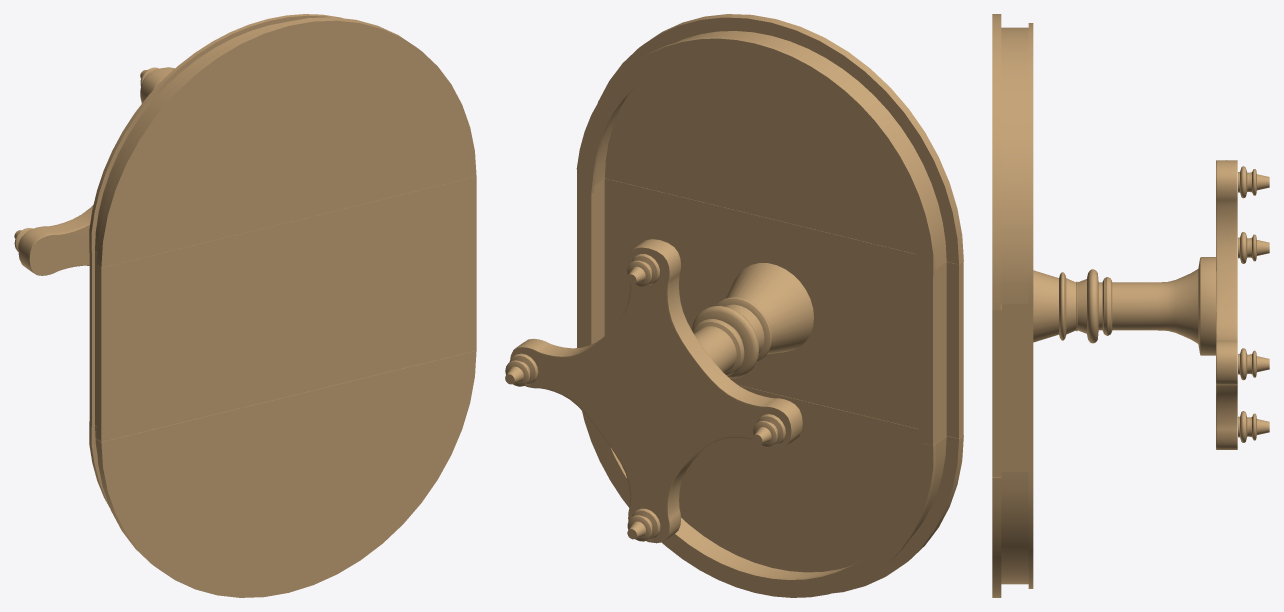
Rendered from Turned_Leg_Round_Table_Pine_V1.obj.
3 renders of one model, left to right at view 1: azimuth 30°, elevation 25°; view 2: azimuth 150°, elevation 25°; view 3: azimuth 270°, elevation 25°, orthographic. The views are drawn at different scales.
Visible parts, largest first — view 1: Box27, Cylinder124, Cylinder125, Tube08, Box30, Box29; view 2: Cylinder124, Box27, Cylinder125, Box30, Tube08, Tube07, Cylinder130, Box29, Box28, Cylinder129, Cylinder126, Cylinder127 (+1 smaller); view 3: Cylinder130, Tube08, Box30, Box28, Tube07, Cylinder124, Box27, Cylinder125, Cylinder126, Cylinder129, Cylinder127, Cylinder128.
Boxes of the visible parts, <box> form: Box27: <box>96,176,476,441</box>; Cylinder124: <box>96,17,476,267</box>; Cylinder125: <box>96,350,476,597</box>; Tube08: <box>89,14,342,254</box>; Box30: <box>18,67,174,275</box>; Box29: <box>89,247,97,429</box>; Cylinder124: <box>598,14,963,264</box>; Box27: <box>604,178,963,438</box>; Cylinder125: <box>679,385,963,593</box>; Box30: <box>510,239,802,543</box>; Tube08: <box>576,31,946,277</box>; Tube07: <box>582,411,946,597</box>; Cylinder130: <box>691,263,813,378</box>; Box29: <box>919,262,946,445</box>; Box28: <box>577,179,604,347</box>; Cylinder129: <box>627,508,660,541</box>; Cylinder126: <box>505,353,538,386</box>; Cylinder127: <box>752,414,785,447</box>; Cylinder130: <box>1033,257,1216,355</box>; Tube08: <box>1001,23,1033,306</box>; Box30: <box>1216,160,1237,449</box>; Box28: <box>1001,304,1033,472</box>; Tube07: <box>1001,472,1033,588</box>; Cylinder124: <box>992,14,1001,310</box>; Box27: <box>992,304,1001,477</box>; Cylinder125: <box>992,477,1001,597</box>; Cylinder126: <box>1238,348,1269,380</box>; Cylinder129: <box>1238,411,1269,442</box>; Cylinder127: <box>1238,232,1269,263</box>; Cylinder128: <box>1238,166,1269,198</box>.
Bounding box in the file's own units: 111 × 160 × 73.77.
